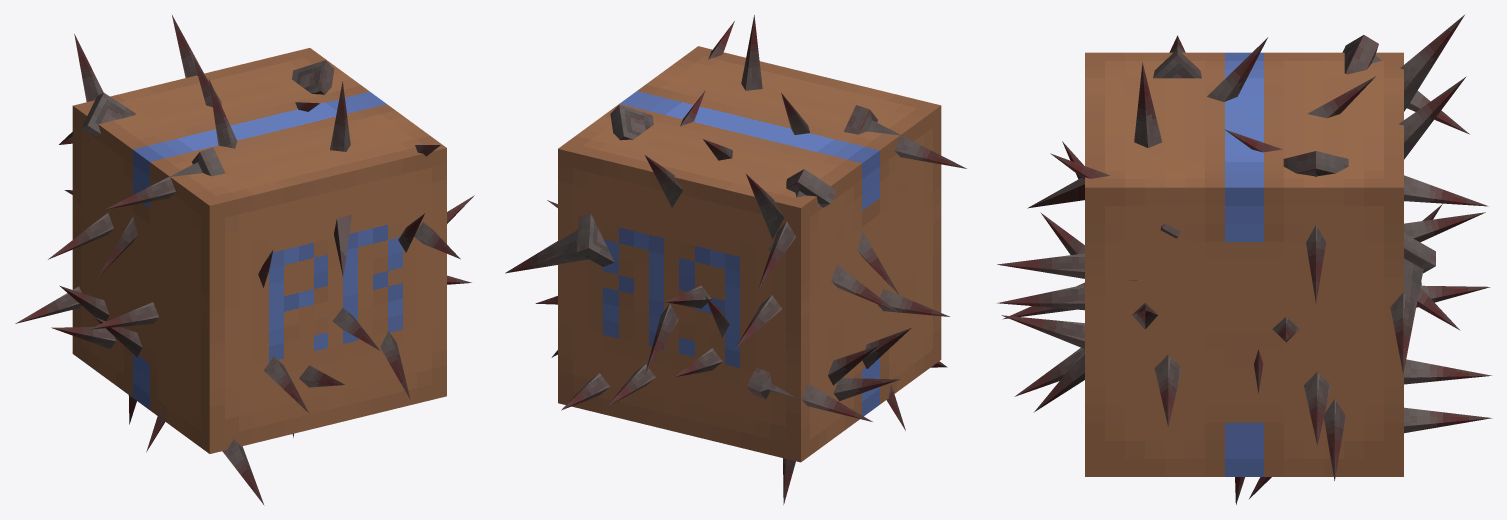
Rendered from BoxOfNails.glb.
3 renders of one model, left to right at view 1: azimuth 30°, elevation 25°; view 2: azimuth 150°, elevation 25°; view 3: azimuth 270°, elevation 25°, orthographic. The views are drawn at different scales.
Parts seen in each view (by area): view 1: Cube.023; view 2: Cube.023; view 3: Cube.023.
Part boxes in pixels (box(x1,y1,x2,y2)): Cube.023: box(15, 15, 474, 505); Cube.023: box(505, 15, 966, 504); Cube.023: box(997, 15, 1492, 504).
Bounding box in the file's own units: 6.15 × 6.21 × 6.22.
Materials: 2 (2 with a texture image).
